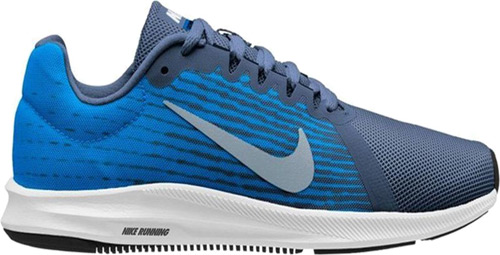nike: (160, 97, 316, 194)
